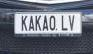A: (29, 15, 35, 32), (43, 15, 48, 32)
K: (35, 15, 42, 32), (21, 15, 28, 31)
L: (61, 14, 68, 32)
O: (49, 14, 56, 31)
V: (68, 14, 75, 31)
